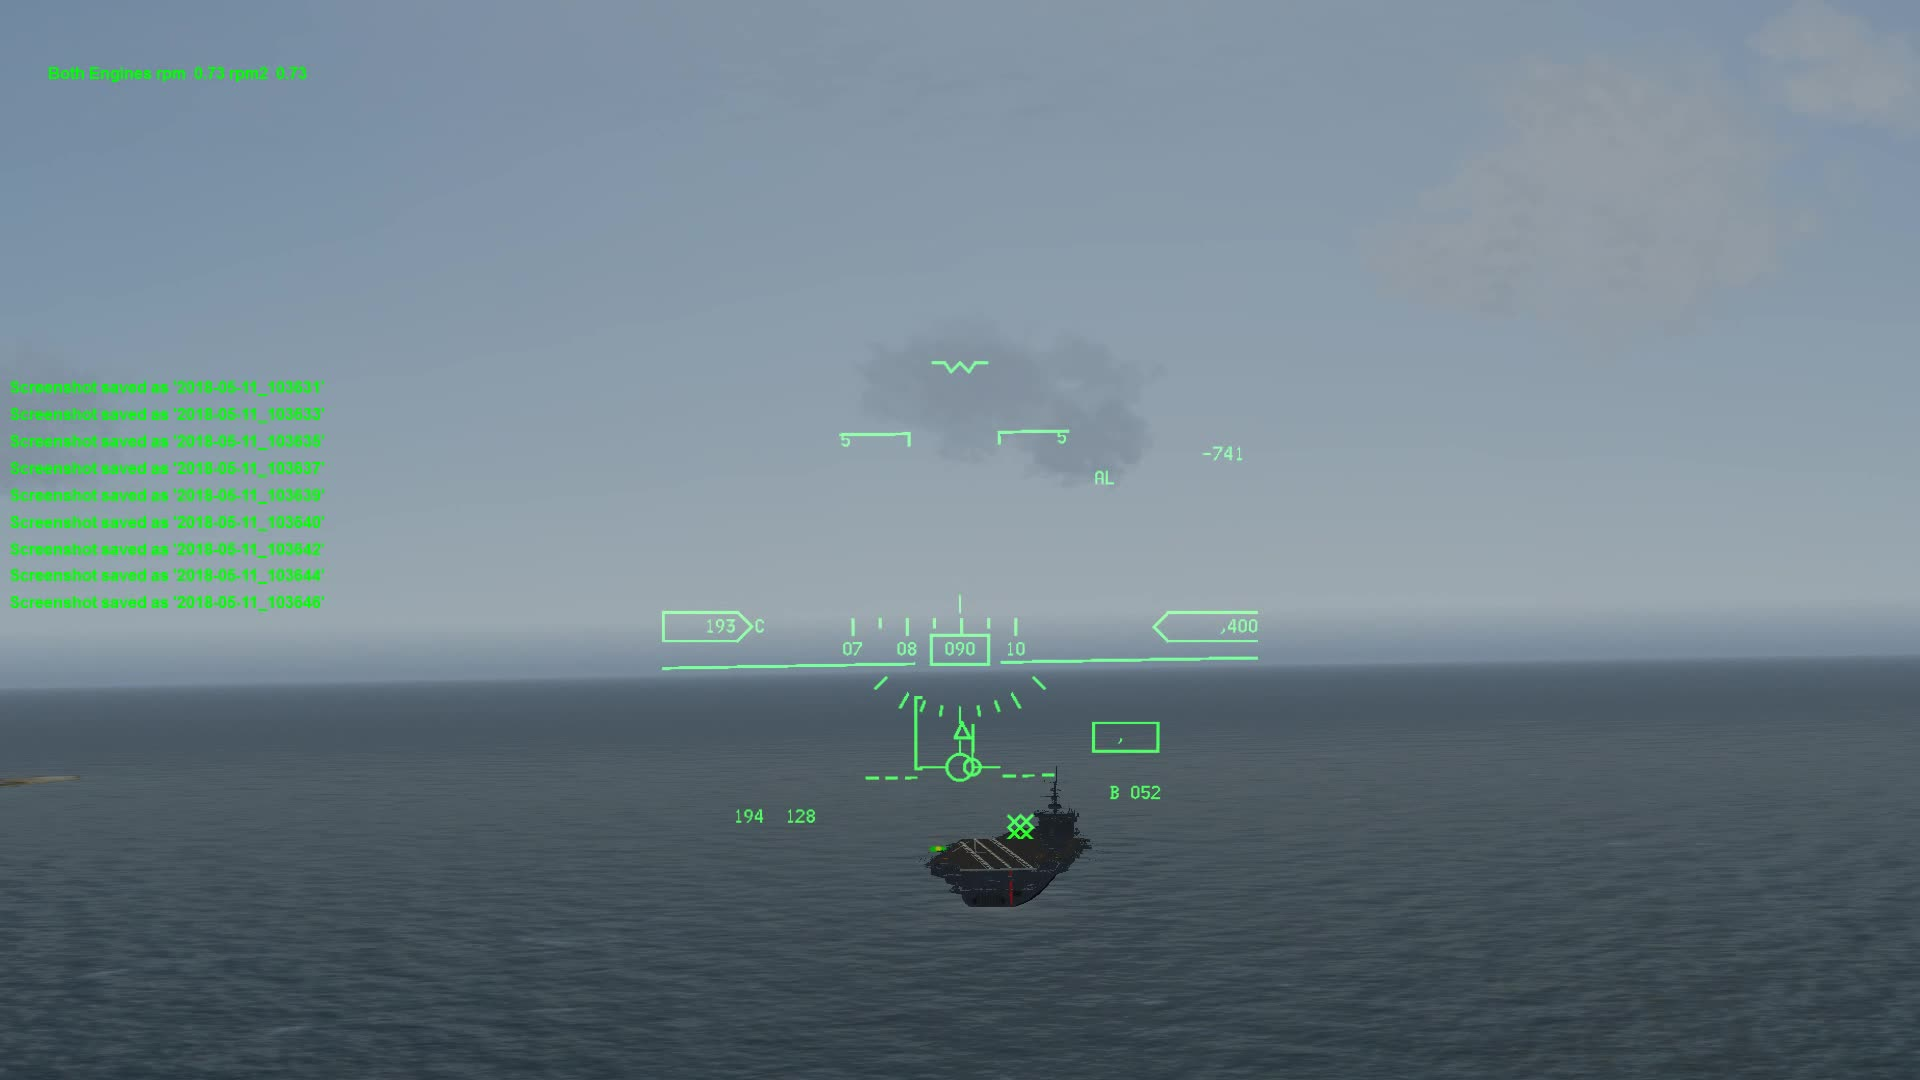speed vector: (924, 741, 998, 791)
